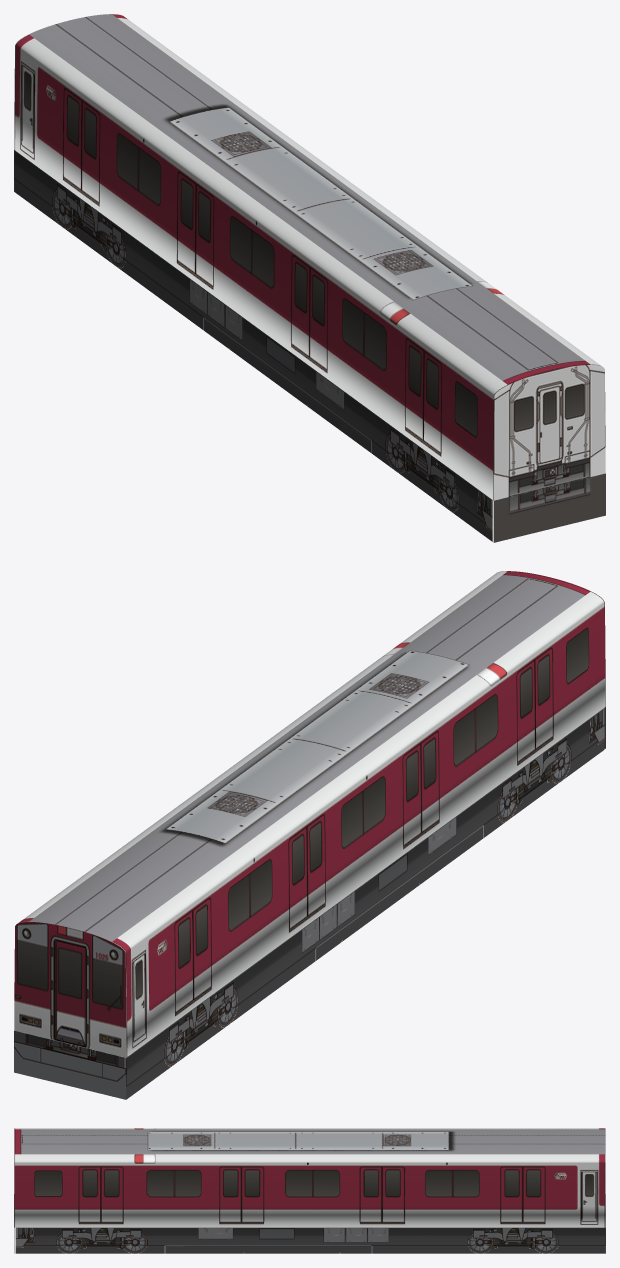
File: car2.glb
The picture shows the model from 3 angles, top to bottom: view 1: azimuth 30°, elevation 25°; view 2: azimuth 150°, elevation 25°; view 3: azimuth 270°, elevation 25°; orthographic projection. The views are drawn at different scales.
Parts seen in each view (by area): view 1: kintetsu-1230-car2; view 2: kintetsu-1230-car2; view 3: kintetsu-1230-car2.
Part boxes in pixels (box(x1,y1,x2,y2)): kintetsu-1230-car2: box(14, 14, 605, 542); kintetsu-1230-car2: box(14, 571, 605, 1099); kintetsu-1230-car2: box(14, 1128, 605, 1253).
Size of the model in its own units: 2.8 by 3.77 by 20.75.
8 materials, 7 textured.
